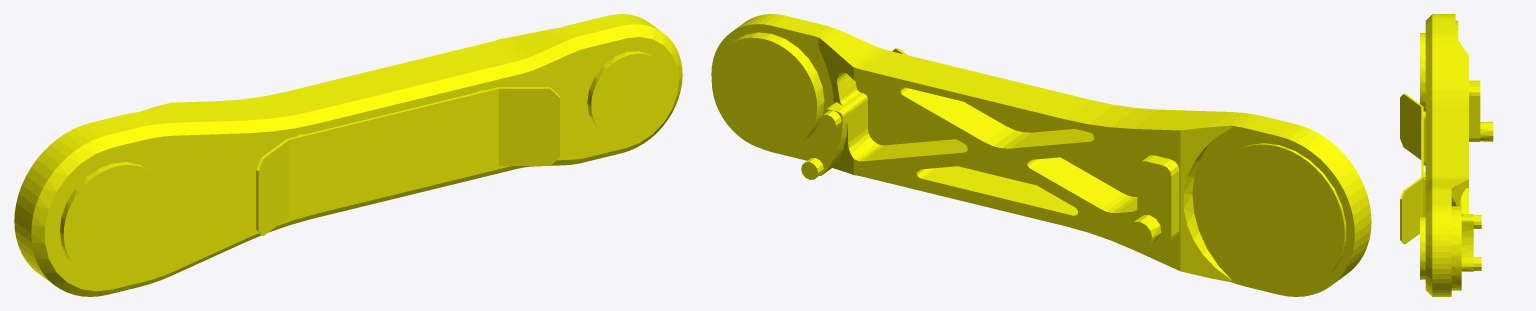
3 views of the same model, side by side, from view 1: azimuth 30°, elevation 25°; view 2: azimuth 150°, elevation 25°; view 3: azimuth 270°, elevation 25° (orthographic). The views are drawn at different scales.
Visible parts, largest first — view 1: node; view 2: node; view 3: node.
Part boxes in pixels (box(x1,y1,x2,y2)): node: box(14, 14, 682, 296); node: box(711, 14, 1371, 296); node: box(1400, 14, 1493, 296).
Bounding box in the file's own units: 760 × 178 × 178.
